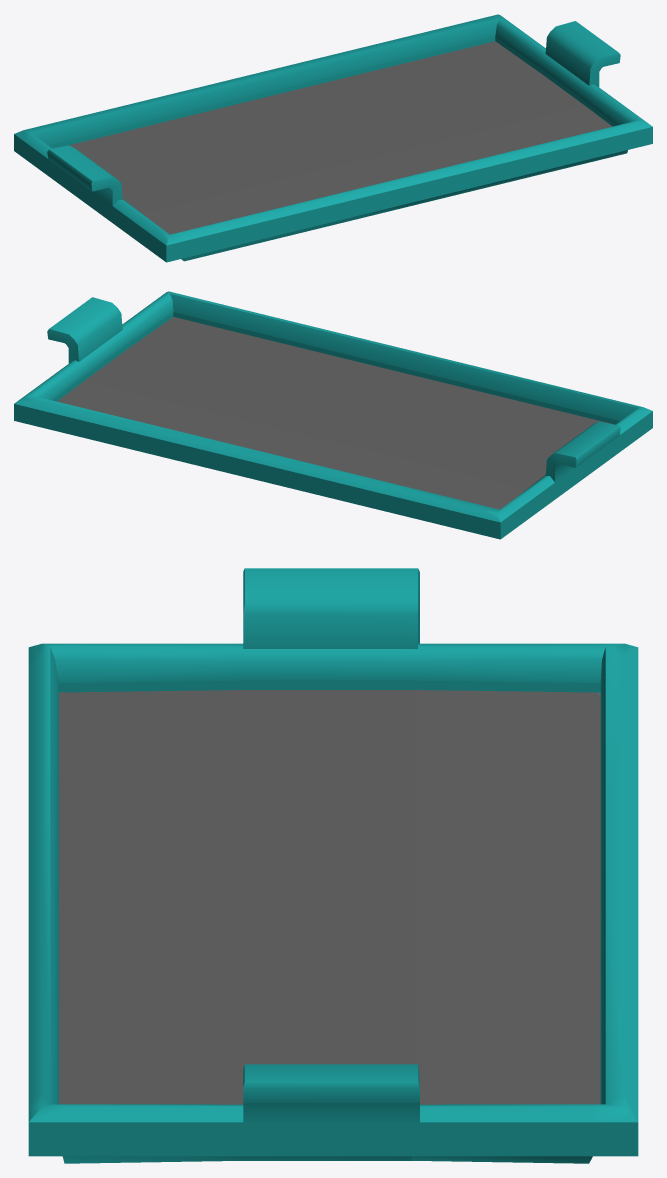
The model's file is tallrik.fbx.
The picture shows the model from 3 angles, top to bottom: view 1: azimuth 30°, elevation 25°; view 2: azimuth 150°, elevation 25°; view 3: azimuth 270°, elevation 25°; orthographic projection. The views are drawn at different scales.
Parts seen in each view (by area): view 1: tallrik; view 2: tallrik; view 3: tallrik.
Part boxes in pixels (x1,y1,x2,y2): tallrik: (14, 14, 652, 262); tallrik: (14, 291, 652, 539); tallrik: (28, 568, 638, 1163).
Size of the model in its own units: 198 by 20.98 by 98.55.
